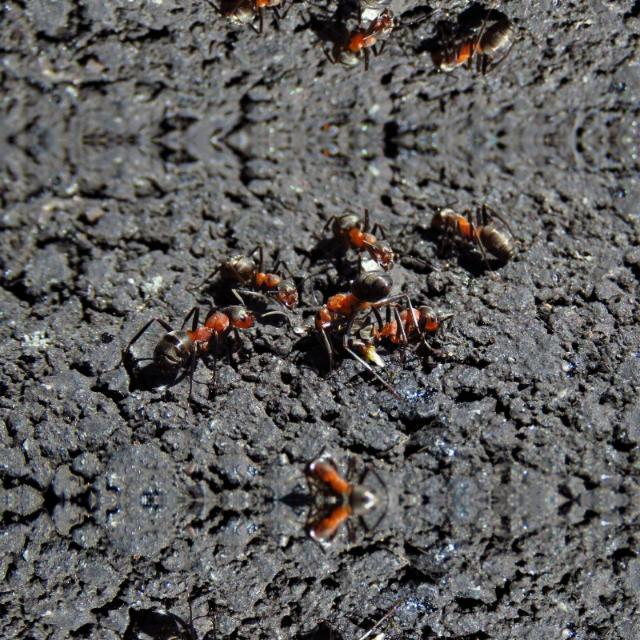Formica: (142, 276, 262, 384), (294, 261, 400, 347), (434, 188, 534, 266), (434, 14, 534, 92), (369, 287, 476, 357), (226, 236, 310, 312), (322, 208, 404, 270), (322, 10, 404, 72), (302, 453, 410, 499), (302, 501, 410, 547), (224, 0, 308, 42), (140, 616, 262, 640), (292, 0, 398, 18)
